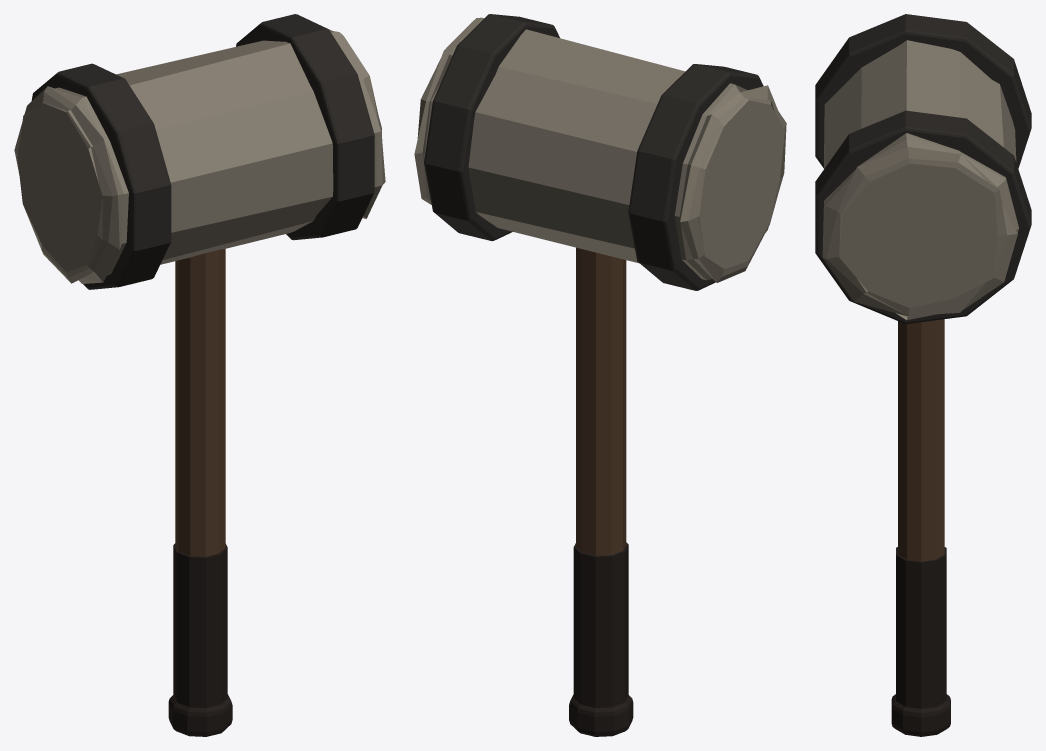
Rendered from hammer_iwadaru.fbx.
3 renders of one model, left to right at view 1: azimuth 30°, elevation 25°; view 2: azimuth 150°, elevation 25°; view 3: azimuth 270°, elevation 25°, orthographic. The views are drawn at different scales.
Parts seen in each view (by area): view 1: iwadaru_hammer; view 2: iwadaru_hammer; view 3: iwadaru_hammer.
Part boxes in pixels (box(x1,y1,x2,y2)): iwadaru_hammer: box(14, 14, 385, 736); iwadaru_hammer: box(414, 14, 786, 736); iwadaru_hammer: box(815, 14, 1031, 736).
Size of the model in its own units: 1.16 by 2.66 by 0.7938.
